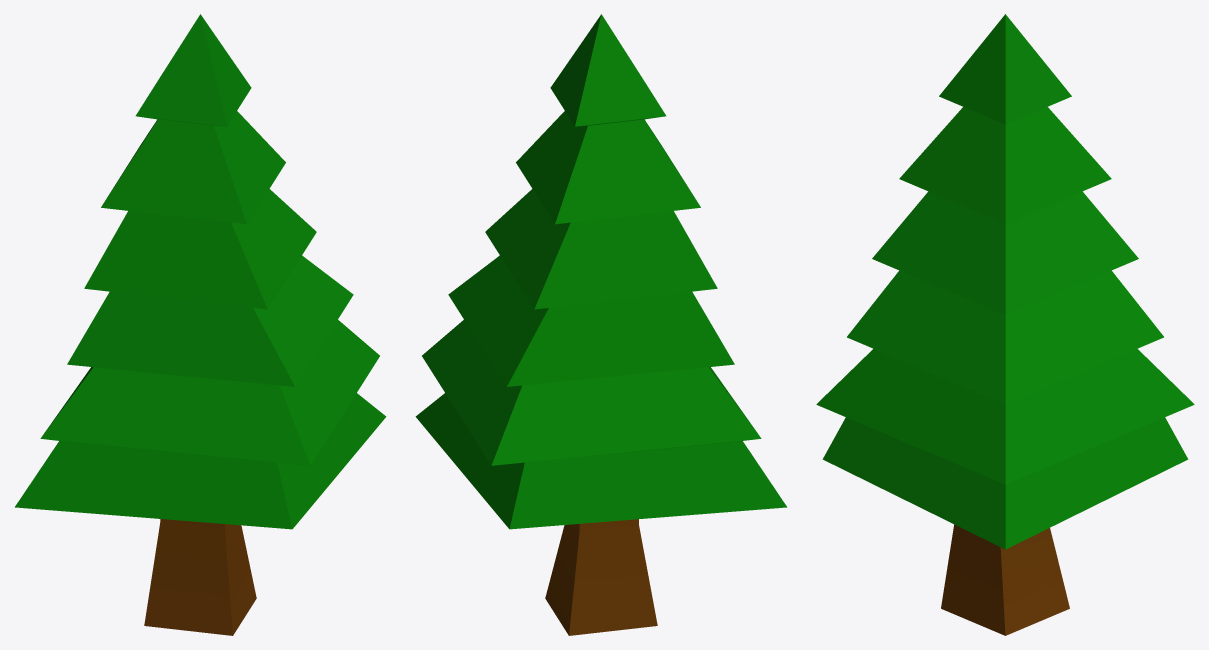
The model's file is pinetrees.fbx.
3 views of the same model, side by side, from view 1: azimuth 30°, elevation 25°; view 2: azimuth 150°, elevation 25°; view 3: azimuth 270°, elevation 25° (orthographic).
Visible parts, largest first — view 1: pCone1; view 2: pCone1; view 3: pCone1.
Part boxes in pixels (box(x1,y1,x2,y2)): pCone1: box(15, 14, 386, 635); pCone1: box(415, 14, 786, 635); pCone1: box(816, 14, 1194, 635).
Bounding box in the file's own units: 16.71 × 25.68 × 14.82.
